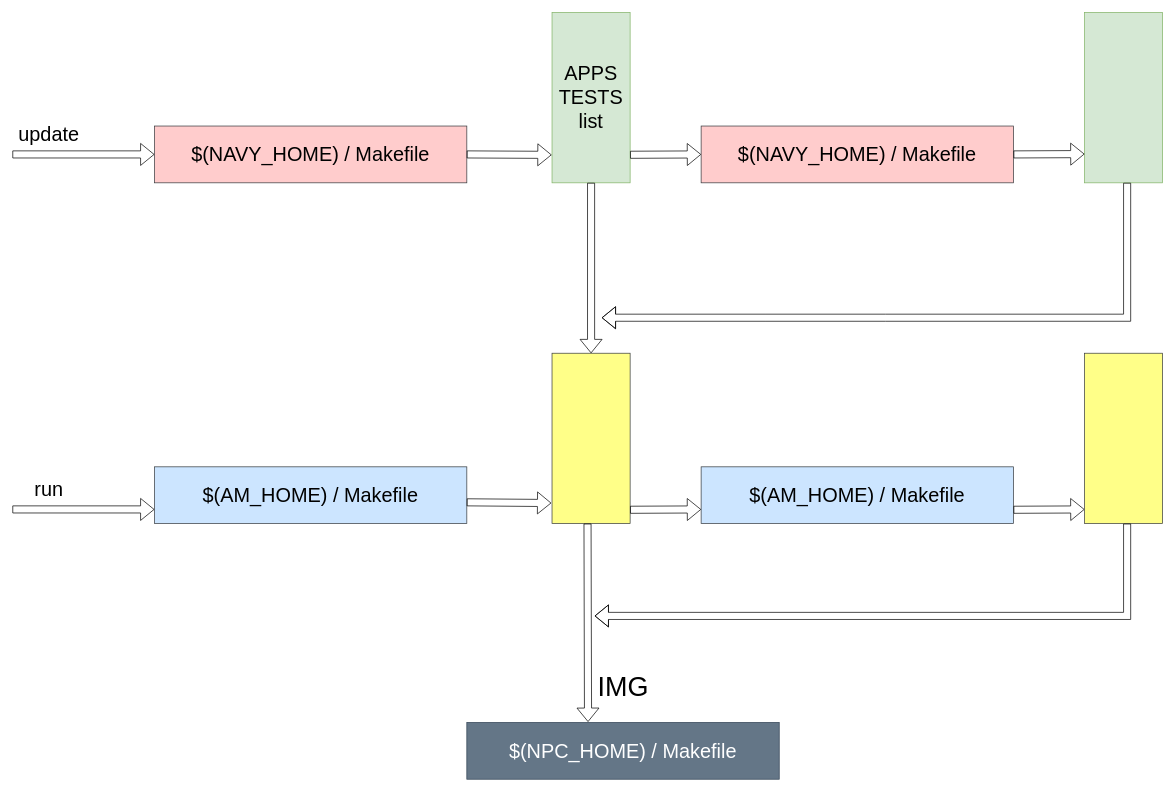
Some shapes in this 1175 by 792 pixel diagram are drawn without their labels. The box of each missing label's shape, as (x1, y1, x2, y2) in pixels:
Klib Am: (1084, 353, 1163, 524)
LIBS: (1084, 12, 1163, 183)
SRC: (551, 353, 630, 524)
